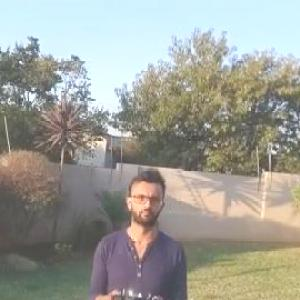follow: (82, 162, 196, 299)
